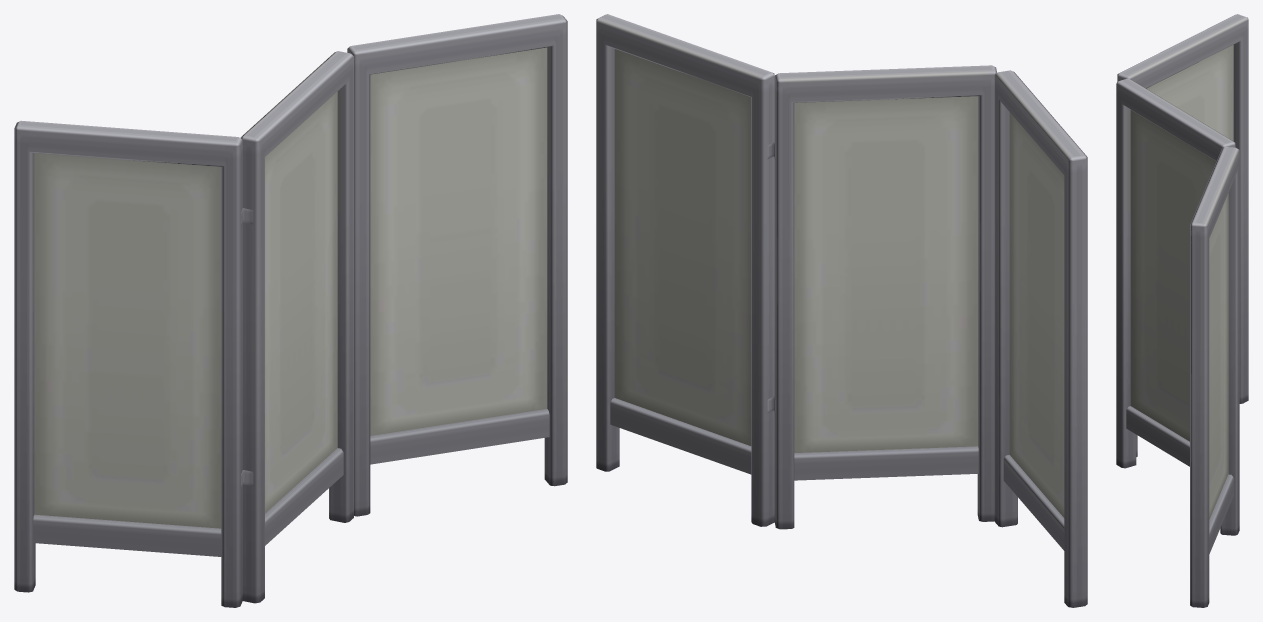
The model's file is int_oth_screen.dae.
The picture shows the model from 3 angles, left to right: view 1: azimuth 30°, elevation 25°; view 2: azimuth 150°, elevation 25°; view 3: azimuth 270°, elevation 25°; orthographic projection. The views are drawn at different scales.
Visible parts, largest first — view 1: int_oth_screen; view 2: int_oth_screen; view 3: int_oth_screen.
Boxes of the visible parts, x1,y1,x2,y2 form: int_oth_screen: [14, 14, 567, 607]; int_oth_screen: [596, 14, 1087, 607]; int_oth_screen: [1116, 14, 1248, 607].
Bounding box in the file's own units: 55.33 × 46.54 × 14.57.
Materials: 1 (1 with a texture image).
